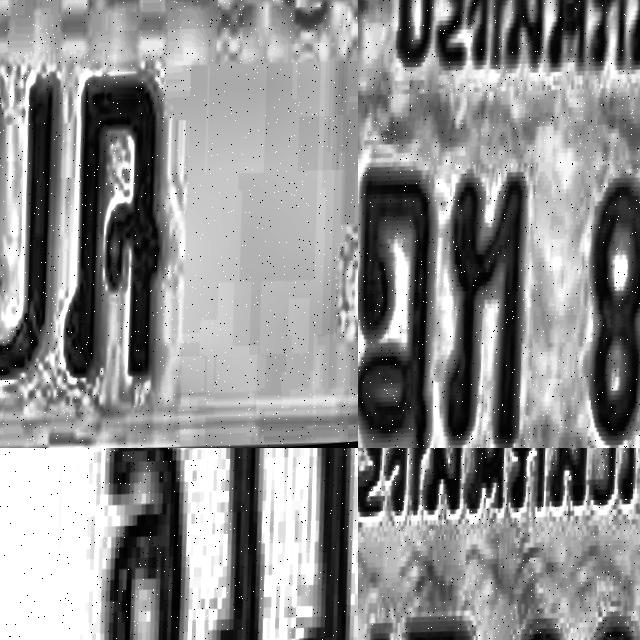license-plate: (0, 0, 358, 448), (358, 0, 640, 448), (0, 448, 358, 640), (358, 448, 640, 640)
